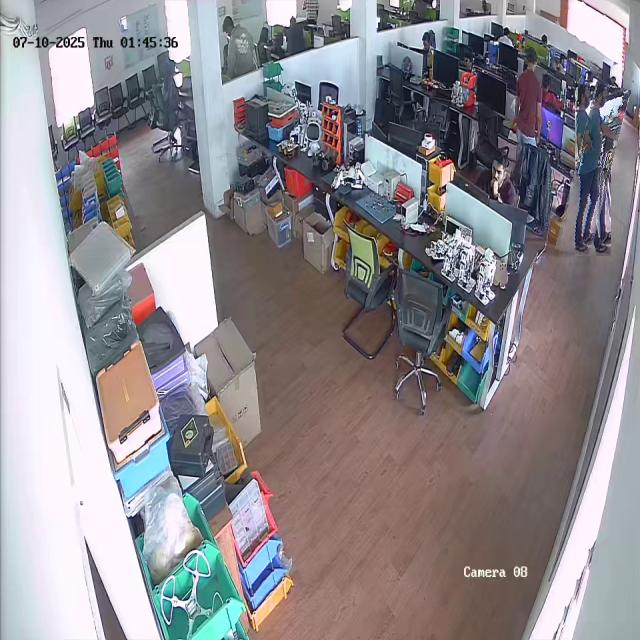person: (566, 83, 622, 257), (509, 48, 546, 186)
